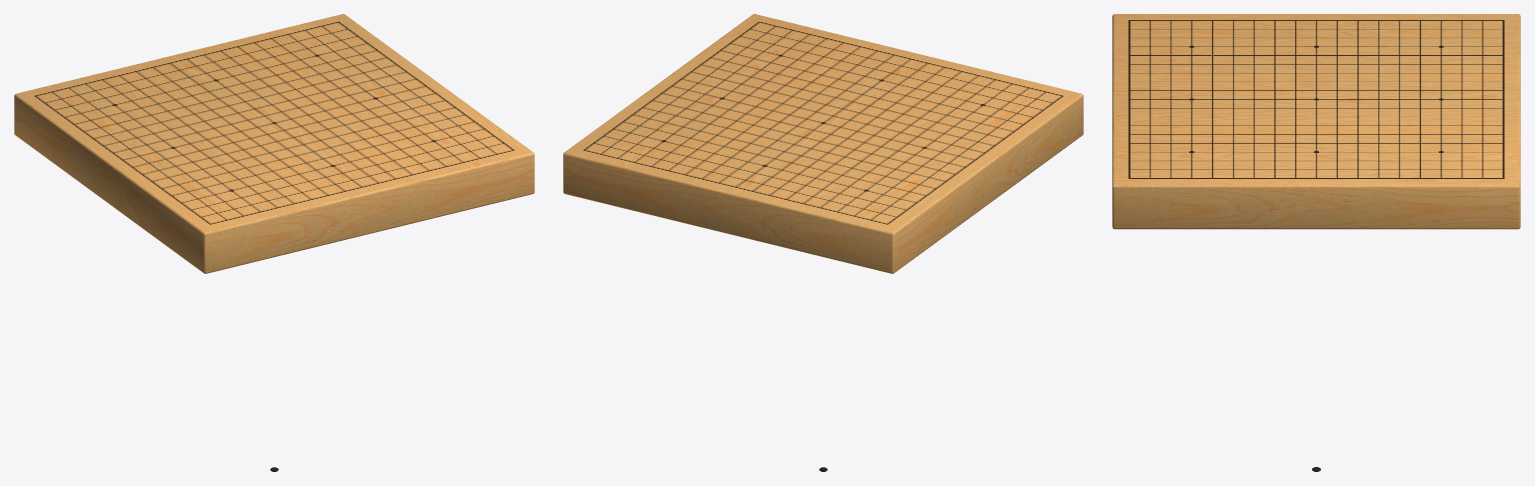
The model's file is ders-19.glb.
3 renders of one model, left to right at view 1: azimuth 30°, elevation 25°; view 2: azimuth 150°, elevation 25°; view 3: azimuth 270°, elevation 25°, orthographic. The views are drawn at different scales.
Visible parts, largest first — view 1: Tahta; view 2: Tahta; view 3: Tahta.
Part boxes in pixels (x1,y1,x2,y2): Tahta: (14, 14, 534, 273); Tahta: (563, 14, 1083, 273); Tahta: (1112, 14, 1520, 229).
Bounding box in the file's own units: 1 × 1 × 1.
4 materials, 3 textured.
